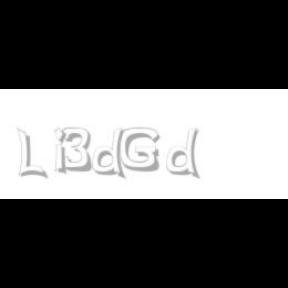3: (62, 128, 94, 172)
G: (120, 128, 160, 172)
L: (17, 128, 45, 180)
d: (92, 128, 130, 180), (166, 128, 204, 180)
i: (54, 128, 70, 176)
